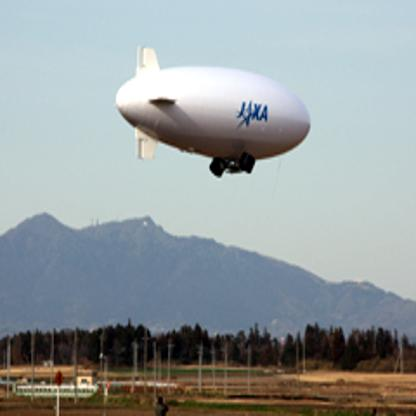Airship: (114, 45, 314, 181)
